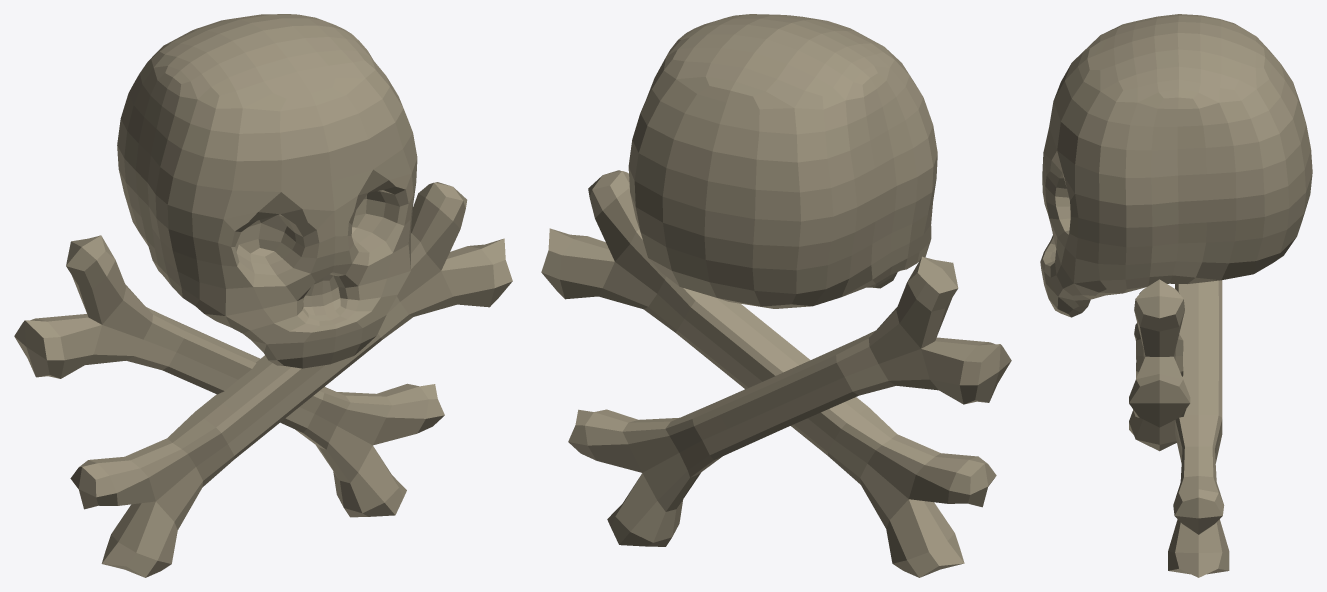
3 renders of one model, left to right at view 1: azimuth 30°, elevation 25°; view 2: azimuth 150°, elevation 25°; view 3: azimuth 270°, elevation 25°, orthographic. The views are drawn at different scales.
Parts seen in each view (by area): view 1: Skull2; view 2: Skull2; view 3: Skull2.
Part boxes in pixels (x1,y1,x2,y2): Skull2: (14,14,512,577); Skull2: (541,14,1011,577); Skull2: (1040,14,1312,577).
Bounding box in the file's own units: 0.8581 × 0.9274 × 0.4708.
